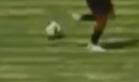ball: (42, 18, 64, 42)
